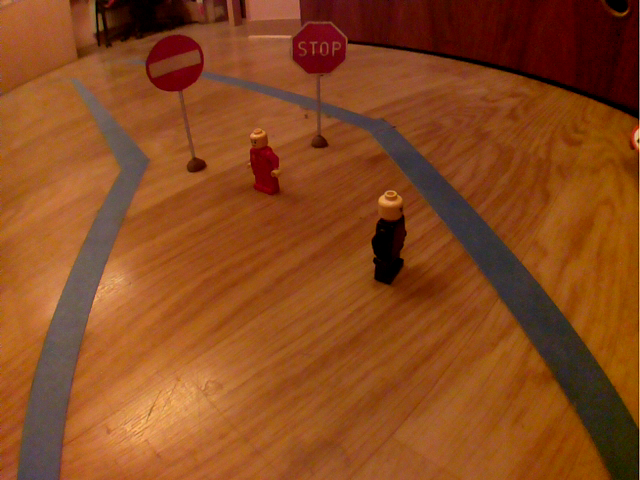Postac LEGO: (363, 185, 415, 293), (241, 123, 290, 199)
Stop: (287, 13, 352, 82)
Zakaz: (141, 30, 207, 97)
